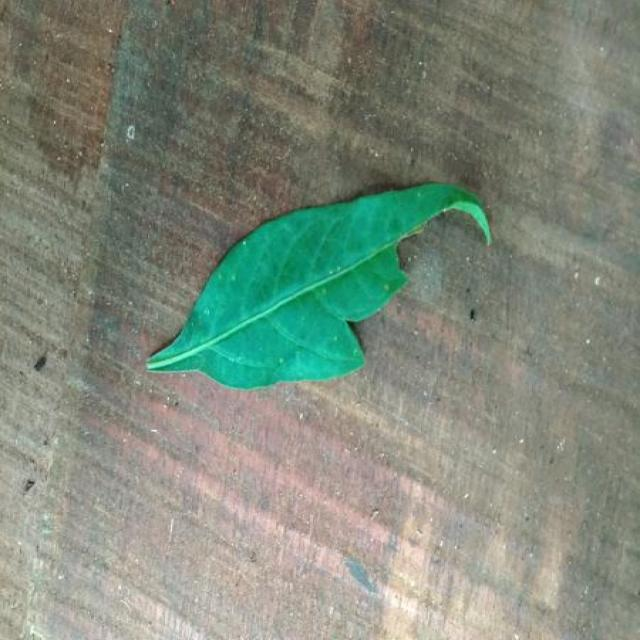defectedballoon_Vine: (147, 184, 490, 388)
